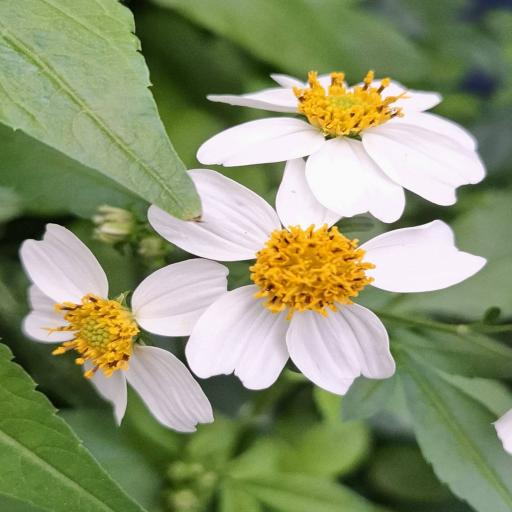Bidens: (139, 155, 496, 402), (5, 219, 241, 437), (183, 64, 494, 223)
